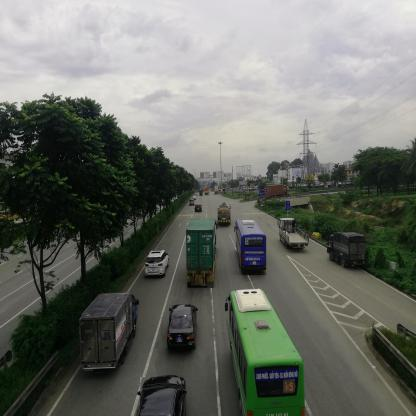bus: (236, 221, 268, 276)
car: (141, 378, 187, 416), (170, 306, 198, 351), (146, 251, 167, 280), (195, 206, 203, 212)
container: (188, 218, 217, 289), (262, 186, 290, 196)
truck: (83, 295, 140, 366), (328, 233, 367, 267), (279, 217, 309, 250), (219, 207, 232, 226)
